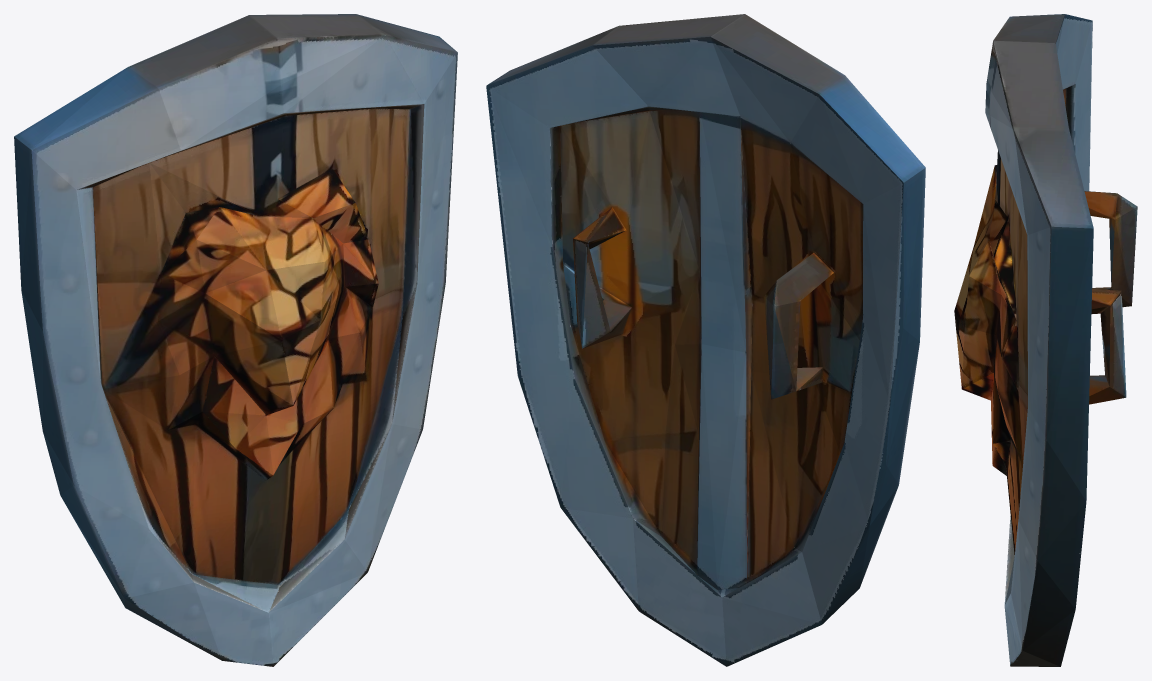
The model's file is lion_crest_shield.glb.
3 renders of one model, left to right at view 1: azimuth 30°, elevation 25°; view 2: azimuth 150°, elevation 25°; view 3: azimuth 270°, elevation 25°, orthographic. The views are drawn at different scales.
Parts seen in each view (by area): view 1: TexturedMesh_.obj; view 2: TexturedMesh_.obj; view 3: TexturedMesh_.obj.
Part boxes in pixels (x1,y1,x2,y2): TexturedMesh_.obj: [14, 14, 457, 666]; TexturedMesh_.obj: [486, 14, 925, 666]; TexturedMesh_.obj: [954, 14, 1137, 666].
Size of the model in its own units: 1.38 by 1.97 by 0.5235.
Materials: 1 (1 with a texture image).
